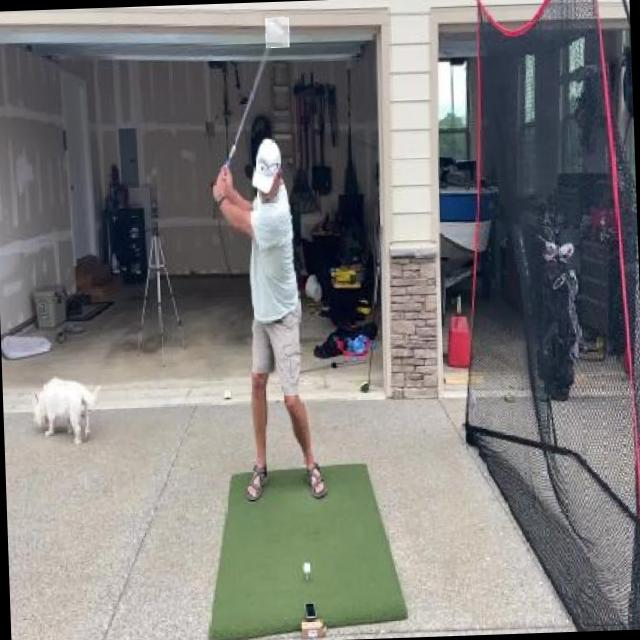club head: (264, 17, 290, 48)
